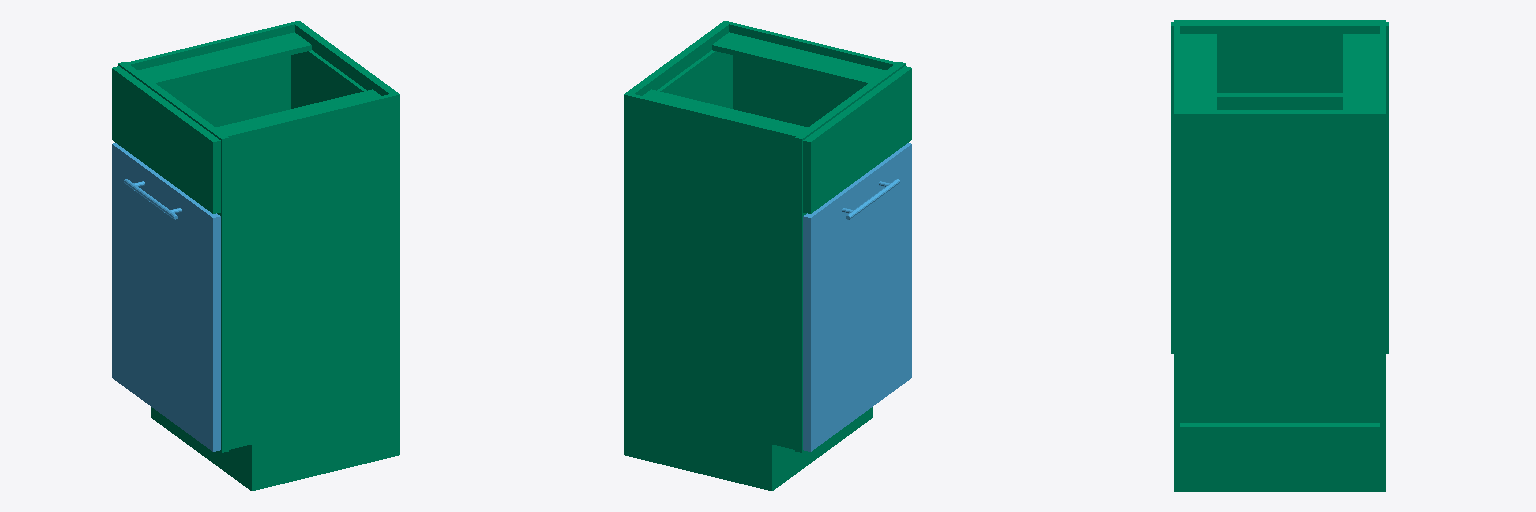
robot.urdf — partnet_233612a657bbda534da5feafe6f1c8fc:
<?xml version="1.0" ?>
<robot name="partnet_233612a657bbda534da5feafe6f1c8fc">
	<link name="base"/>
	<link name="link_0">
		<visual name="cabinet_door_surface-10">
			<origin xyz="0.39173010344869136 0.6232839822769165 -0.4191594879988068"/>
			<geometry>
				<mesh filename="textured_objs/original-28.obj"/>
			</geometry>
		</visual>
		<visual name="handle-11">
			<origin xyz="0.39173010344869136 0.6232839822769165 -0.4191594879988068"/>
			<geometry>
				<mesh filename="textured_objs/original-27.obj"/>
			</geometry>
		</visual>
		<visual name="handle-11">
			<origin xyz="0.39173010344869136 0.6232839822769165 -0.4191594879988068"/>
			<geometry>
				<mesh filename="textured_objs/original-26.obj"/>
			</geometry>
		</visual>
		<visual name="handle-11">
			<origin xyz="0.39173010344869136 0.6232839822769165 -0.4191594879988068"/>
			<geometry>
				<mesh filename="textured_objs/original-25.obj"/>
			</geometry>
		</visual>
		<collision>
			<origin xyz="0.39173010344869136 0.6232839822769165 -0.4191594879988068"/>
			<geometry>
				<mesh filename="textured_objs/original-28.obj"/>
			</geometry>
		</collision>
		<collision>
			<origin xyz="0.39173010344869136 0.6232839822769165 -0.4191594879988068"/>
			<geometry>
				<mesh filename="textured_objs/original-27.obj"/>
			</geometry>
		</collision>
		<collision>
			<origin xyz="0.39173010344869136 0.6232839822769165 -0.4191594879988068"/>
			<geometry>
				<mesh filename="textured_objs/original-26.obj"/>
			</geometry>
		</collision>
		<collision>
			<origin xyz="0.39173010344869136 0.6232839822769165 -0.4191594879988068"/>
			<geometry>
				<mesh filename="textured_objs/original-25.obj"/>
			</geometry>
		</collision>
	</link>
	<joint name="joint_0" type="revolute">
		<origin xyz="-0.39173010344869136 -0.6232839822769165 0.4191594879988068"/>
		<axis xyz="0 -1 0"/>
		<child link="link_0"/>
		<parent link="link_1"/>
		<limit lower="0.0" upper="1.627344994559513"/>
	</joint>
	<link name="link_1">
		<visual name="drawer_front-9">
			<origin xyz="0 0 0"/>
			<geometry>
				<mesh filename="textured_objs/original-22.obj"/>
			</geometry>
		</visual>
		<visual name="frame_vertical_bar-22">
			<origin xyz="0 0 0"/>
			<geometry>
				<mesh filename="textured_objs/original-3.obj"/>
			</geometry>
		</visual>
		<visual name="frame_vertical_bar-23">
			<origin xyz="0 0 0"/>
			<geometry>
				<mesh filename="textured_objs/original-7.obj"/>
			</geometry>
		</visual>
		<visual name="frame_horizontal_bar-24">
			<origin xyz="0 0 0"/>
			<geometry>
				<mesh filename="textured_objs/original-21.obj"/>
			</geometry>
		</visual>
		<visual name="frame_horizontal_bar-25">
			<origin xyz="0 0 0"/>
			<geometry>
				<mesh filename="textured_objs/original-20.obj"/>
			</geometry>
		</visual>
		<visual name="frame_horizontal_bar-26">
			<origin xyz="0 0 0"/>
			<geometry>
				<mesh filename="textured_objs/original-8.obj"/>
			</geometry>
		</visual>
		<visual name="frame_horizontal_bar-27">
			<origin xyz="0 0 0"/>
			<geometry>
				<mesh filename="textured_objs/original-17.obj"/>
			</geometry>
		</visual>
		<visual name="frame_horizontal_bar-28">
			<origin xyz="0 0 0"/>
			<geometry>
				<mesh filename="textured_objs/original-6.obj"/>
			</geometry>
		</visual>
		<visual name="vertical_side_panel-29">
			<origin xyz="0 0 0"/>
			<geometry>
				<mesh filename="textured_objs/original-15.obj"/>
			</geometry>
		</visual>
		<visual name="vertical_side_panel-29">
			<origin xyz="0 0 0"/>
			<geometry>
				<mesh filename="textured_objs/original-14.obj"/>
			</geometry>
		</visual>
		<visual name="vertical_side_panel-30">
			<origin xyz="0 0 0"/>
			<geometry>
				<mesh filename="textured_objs/original-11.obj"/>
			</geometry>
		</visual>
		<visual name="vertical_side_panel-30">
			<origin xyz="0 0 0"/>
			<geometry>
				<mesh filename="textured_objs/original-10.obj"/>
			</geometry>
		</visual>
		<visual name="back_panel-31">
			<origin xyz="0 0 0"/>
			<geometry>
				<mesh filename="textured_objs/original-5.obj"/>
			</geometry>
		</visual>
		<visual name="back_panel-31">
			<origin xyz="0 0 0"/>
			<geometry>
				<mesh filename="textured_objs/original-4.obj"/>
			</geometry>
		</visual>
		<visual name="bottom_panel-32">
			<origin xyz="0 0 0"/>
			<geometry>
				<mesh filename="textured_objs/original-2.obj"/>
			</geometry>
		</visual>
		<visual name="other_leaf-34">
			<origin xyz="0 0 0"/>
			<geometry>
				<mesh filename="textured_objs/original-29.obj"/>
			</geometry>
		</visual>
		<visual name="base_side_panel-13">
			<origin xyz="0 0 0"/>
			<geometry>
				<mesh filename="textured_objs/original-12.obj"/>
			</geometry>
		</visual>
		<visual name="base_side_panel-14">
			<origin xyz="0 0 0"/>
			<geometry>
				<mesh filename="textured_objs/original-18.obj"/>
			</geometry>
		</visual>
		<visual name="base_side_panel-15">
			<origin xyz="0 0 0"/>
			<geometry>
				<mesh filename="textured_objs/original-16.obj"/>
			</geometry>
		</visual>
		<visual name="base_side_panel-16">
			<origin xyz="0 0 0"/>
			<geometry>
				<mesh filename="textured_objs/original-19.obj"/>
			</geometry>
		</visual>
		<collision>
			<origin xyz="0 0 0"/>
			<geometry>
				<mesh filename="textured_objs/original-22.obj"/>
			</geometry>
		</collision>
		<collision>
			<origin xyz="0 0 0"/>
			<geometry>
				<mesh filename="textured_objs/original-3.obj"/>
			</geometry>
		</collision>
		<collision>
			<origin xyz="0 0 0"/>
			<geometry>
				<mesh filename="textured_objs/original-7.obj"/>
			</geometry>
		</collision>
		<collision>
			<origin xyz="0 0 0"/>
			<geometry>
				<mesh filename="textured_objs/original-21.obj"/>
			</geometry>
		</collision>
		<collision>
			<origin xyz="0 0 0"/>
			<geometry>
				<mesh filename="textured_objs/original-20.obj"/>
			</geometry>
		</collision>
		<collision>
			<origin xyz="0 0 0"/>
			<geometry>
				<mesh filename="textured_objs/original-8.obj"/>
			</geometry>
		</collision>
		<collision>
			<origin xyz="0 0 0"/>
			<geometry>
				<mesh filename="textured_objs/original-17.obj"/>
			</geometry>
		</collision>
		<collision>
			<origin xyz="0 0 0"/>
			<geometry>
				<mesh filename="textured_objs/original-6.obj"/>
			</geometry>
		</collision>
		<collision>
			<origin xyz="0 0 0"/>
			<geometry>
				<mesh filename="textured_objs/original-15.obj"/>
			</geometry>
		</collision>
		<collision>
			<origin xyz="0 0 0"/>
			<geometry>
				<mesh filename="textured_objs/original-14.obj"/>
			</geometry>
		</collision>
		<collision>
			<origin xyz="0 0 0"/>
			<geometry>
				<mesh filename="textured_objs/original-11.obj"/>
			</geometry>
		</collision>
		<collision>
			<origin xyz="0 0 0"/>
			<geometry>
				<mesh filename="textured_objs/original-10.obj"/>
			</geometry>
		</collision>
		<collision>
			<origin xyz="0 0 0"/>
			<geometry>
				<mesh filename="textured_objs/original-5.obj"/>
			</geometry>
		</collision>
		<collision>
			<origin xyz="0 0 0"/>
			<geometry>
				<mesh filename="textured_objs/original-4.obj"/>
			</geometry>
		</collision>
		<collision>
			<origin xyz="0 0 0"/>
			<geometry>
				<mesh filename="textured_objs/original-2.obj"/>
			</geometry>
		</collision>
		<collision>
			<origin xyz="0 0 0"/>
			<geometry>
				<mesh filename="textured_objs/original-29.obj"/>
			</geometry>
		</collision>
		<collision>
			<origin xyz="0 0 0"/>
			<geometry>
				<mesh filename="textured_objs/original-12.obj"/>
			</geometry>
		</collision>
		<collision>
			<origin xyz="0 0 0"/>
			<geometry>
				<mesh filename="textured_objs/original-18.obj"/>
			</geometry>
		</collision>
		<collision>
			<origin xyz="0 0 0"/>
			<geometry>
				<mesh filename="textured_objs/original-16.obj"/>
			</geometry>
		</collision>
		<collision>
			<origin xyz="0 0 0"/>
			<geometry>
				<mesh filename="textured_objs/original-19.obj"/>
			</geometry>
		</collision>
	</link>
	<joint name="joint_1" type="fixed">
		<origin rpy="1.570796326794897 0 -1.570796326794897" xyz="0 0 0"/>
		<child link="link_1"/>
		<parent link="base"/>
	</joint>
</robot>

--- Facts derived from the render (not from the file) ---
Views: 3 orthographic renders of the robot side by side, from view 1: azimuth 30°, elevation 25°; view 2: azimuth 150°, elevation 25°; view 3: azimuth 270°, elevation 25°.
Robot: partnet_233612a657bbda534da5feafe6f1c8fc — 3 links, 2 joints (1 revolute, 1 fixed); root link base; default pose: every joint at zero.
Visible links, largest first — view 1: link_1, link_0; view 2: link_1, link_0; view 3: link_1.
Link boxes in pixels (x1=…): link_1: x1=112, y1=21, x2=399, y2=490; link_0: x1=112, y1=143, x2=220, y2=451; link_1: x1=624, y1=21, x2=911, y2=490; link_0: x1=803, y1=143, x2=911, y2=451; link_1: x1=1171, y1=20, x2=1388, y2=491.
Size in the robot's own frame: 0.9759 by 0.8729 by 1.67 metres.
Meshes: 24 distinct files referenced, 24 mesh visuals loaded (24 OBJ).
